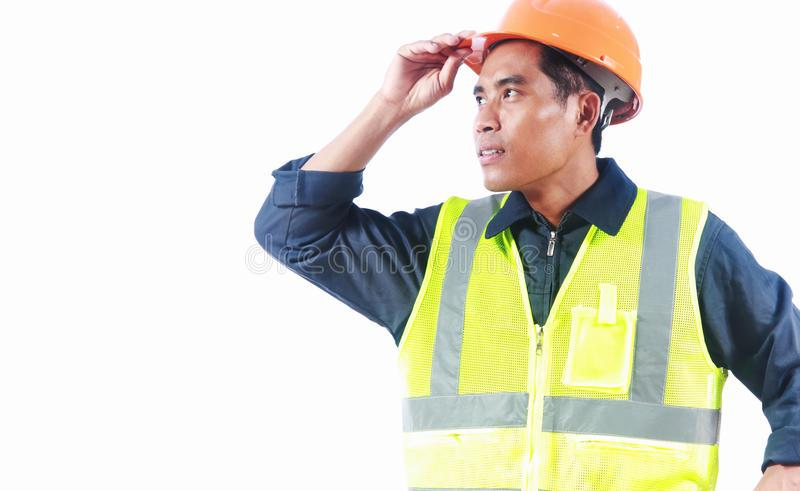hat: (415, 1, 729, 145)
vest: (409, 169, 750, 491)
